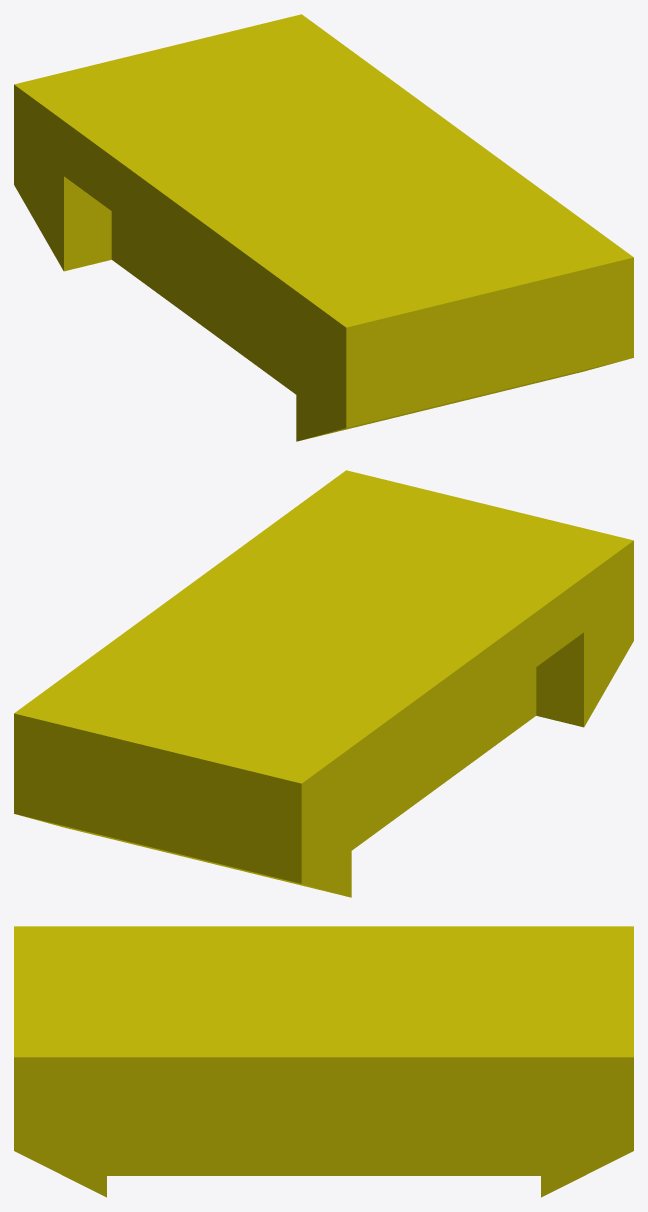
3 views of the same model, one above another, from view 1: azimuth 30°, elevation 25°; view 2: azimuth 150°, elevation 25°; view 3: azimuth 270°, elevation 25° (orthographic). The views are drawn at different scales.
Parts seen in each view (by area): view 1: Cube; view 2: Cube; view 3: Cube.
Part boxes in pixels (x1,y1,x2,y2): Cube: [14, 14, 633, 441]; Cube: [14, 470, 633, 897]; Cube: [14, 926, 633, 1197].
Size of what is drawn, in the model's own units: 6 by 12 by 3.
